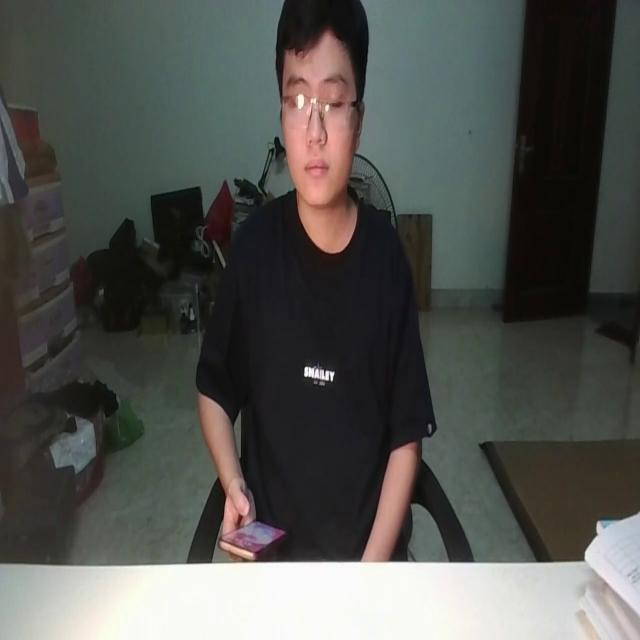phone: (220, 511, 288, 558)
student: (196, 0, 430, 563)
